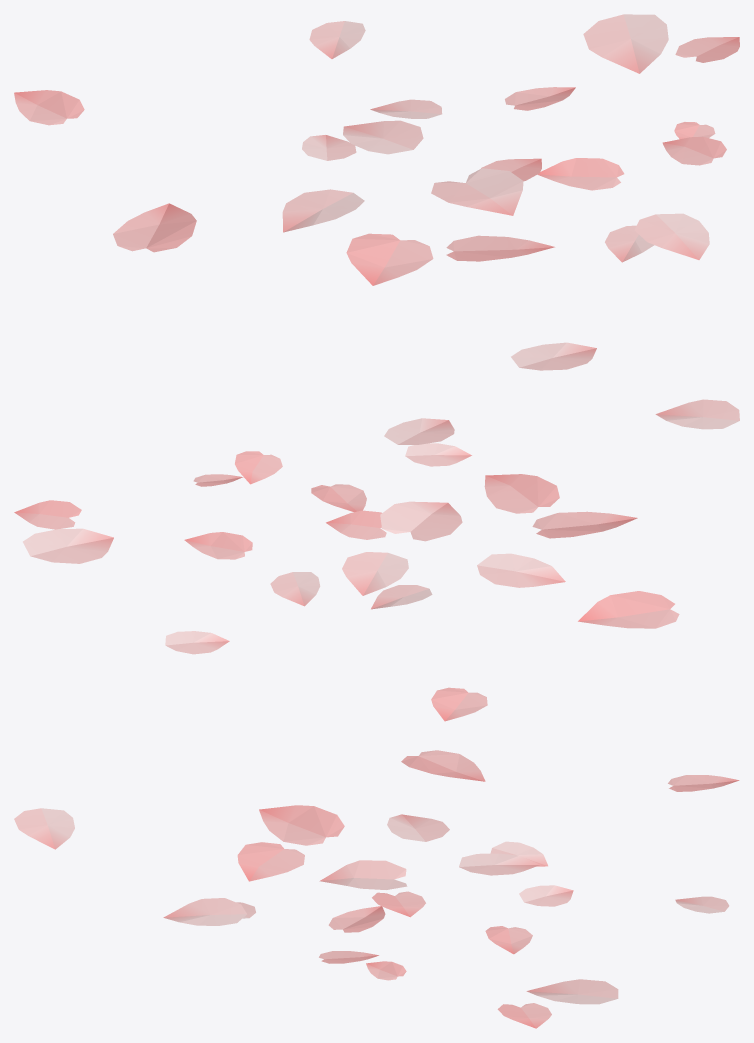
The model's file is plant_E_002.FBX.
The picture shows the model from 3 angles, top to bottom: view 1: azimuth 30°, elevation 25°; view 2: azimuth 150°, elevation 25°; view 3: azimuth 270°, elevation 25°; orthographic projection. The views are drawn at different scales.
Parts seen in each view (by area): view 1: plant_E_002; view 2: plant_E_002; view 3: plant_E_002.
Part boxes in pixels (x1,y1,x2,y2): plant_E_002: (14,14,739,370); plant_E_002: (14,399,739,721); plant_E_002: (14,750,739,1028).
Size of the model in its own units: 76.94 by 2.27 by 84.89.
1 material, 1 textured.
